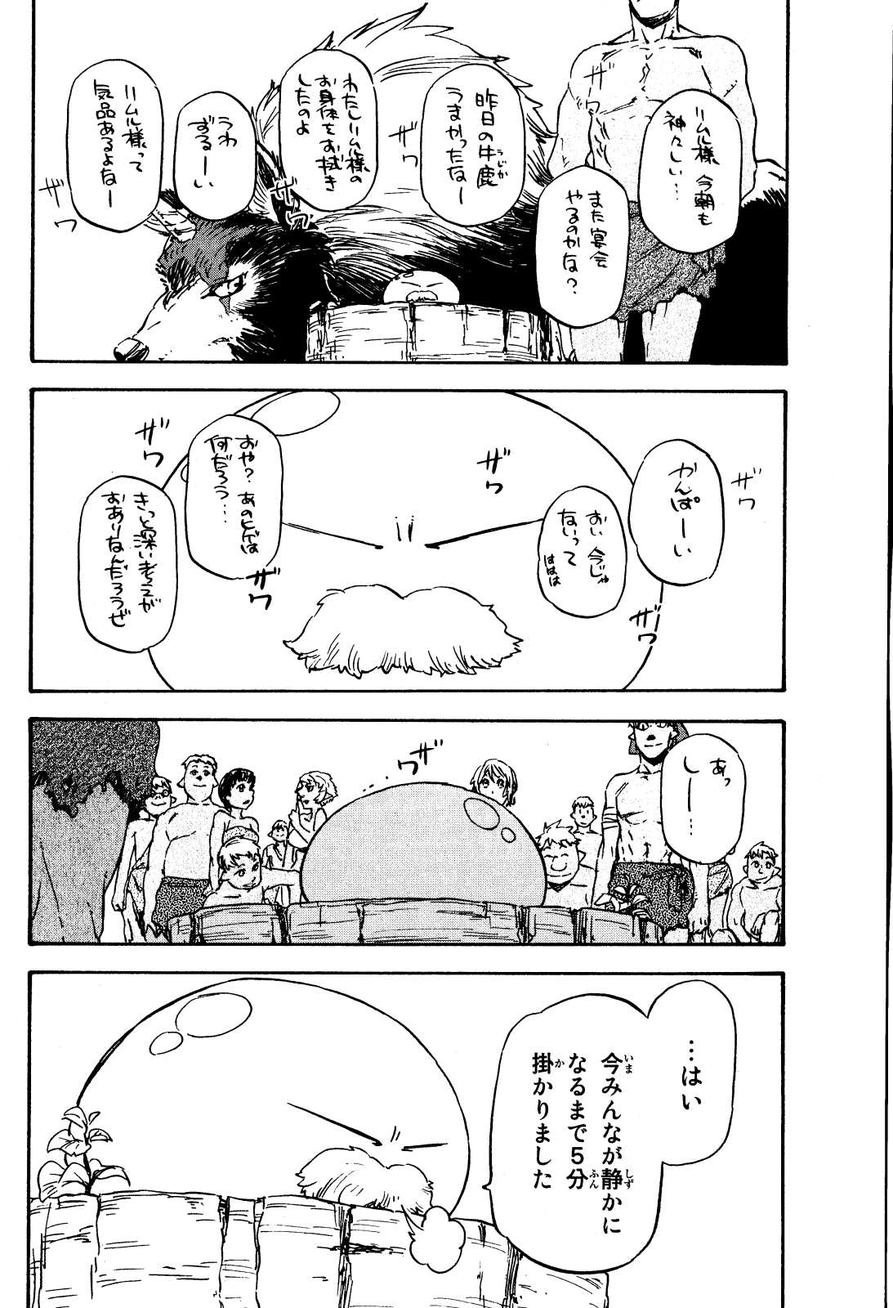bubbles: (486, 978, 740, 1281), (72, 470, 185, 656), (636, 87, 750, 260), (419, 56, 528, 228), (181, 410, 286, 584), (65, 56, 163, 240), (276, 51, 386, 212), (528, 159, 625, 332), (623, 435, 730, 589), (532, 478, 628, 622), (655, 728, 750, 870), (173, 85, 261, 226)
